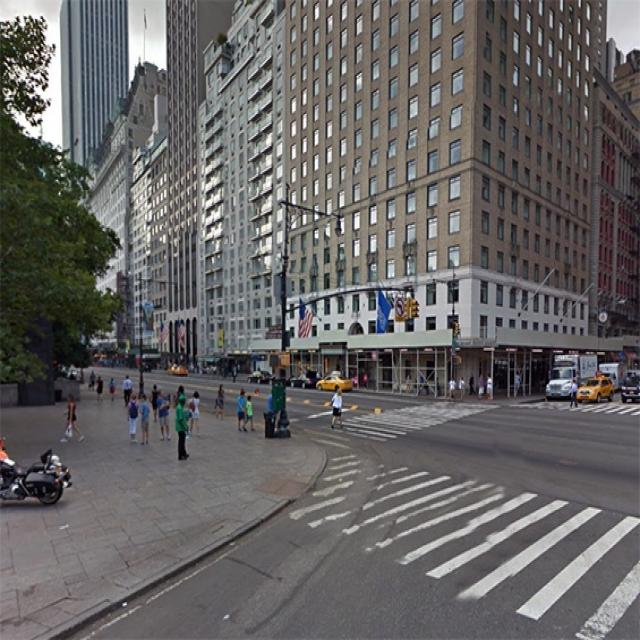body: (59, 392, 86, 444), (174, 393, 192, 462), (155, 386, 171, 442), (63, 366, 94, 394), (185, 388, 202, 438), (124, 390, 140, 440), (137, 393, 151, 447), (412, 374, 442, 396), (240, 393, 256, 434), (330, 387, 344, 431), (235, 386, 248, 432), (120, 373, 135, 409), (214, 383, 227, 421), (172, 382, 189, 410), (149, 383, 161, 422), (567, 379, 579, 409), (95, 373, 107, 403), (466, 370, 476, 399), (458, 376, 468, 404), (448, 375, 458, 402), (483, 372, 492, 401), (477, 370, 485, 402), (266, 387, 275, 414), (514, 370, 524, 394), (108, 377, 116, 405), (231, 364, 238, 381)
